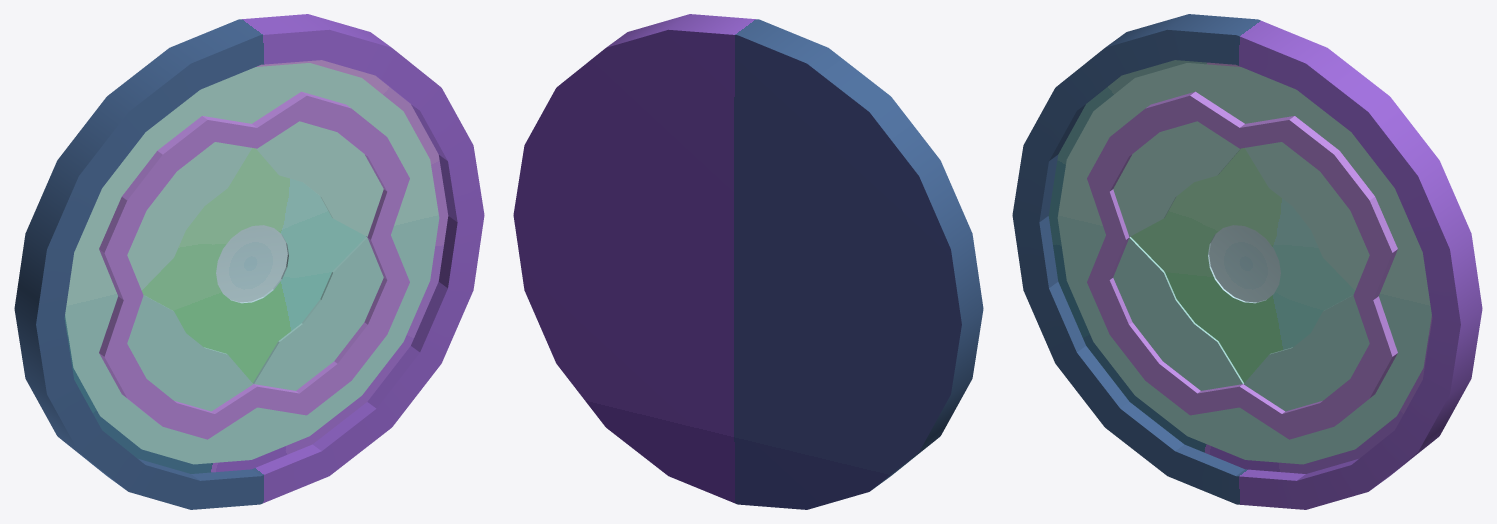
The model's file is SM_target.fbx.
3 renders of one model, left to right at view 1: azimuth 30°, elevation 25°; view 2: azimuth 150°, elevation 25°; view 3: azimuth 330°, elevation 25°, orthographic.
Parts seen in each view (by area): view 1: Target; view 2: Target; view 3: Target.
Part boxes in pixels (<box>): Target: <box>14,14,484,509</box>; Target: <box>513,14,983,509</box>; Target: <box>1012,14,1482,509</box>.
Size of the model in its own units: 101 by 101 by 9.08.
